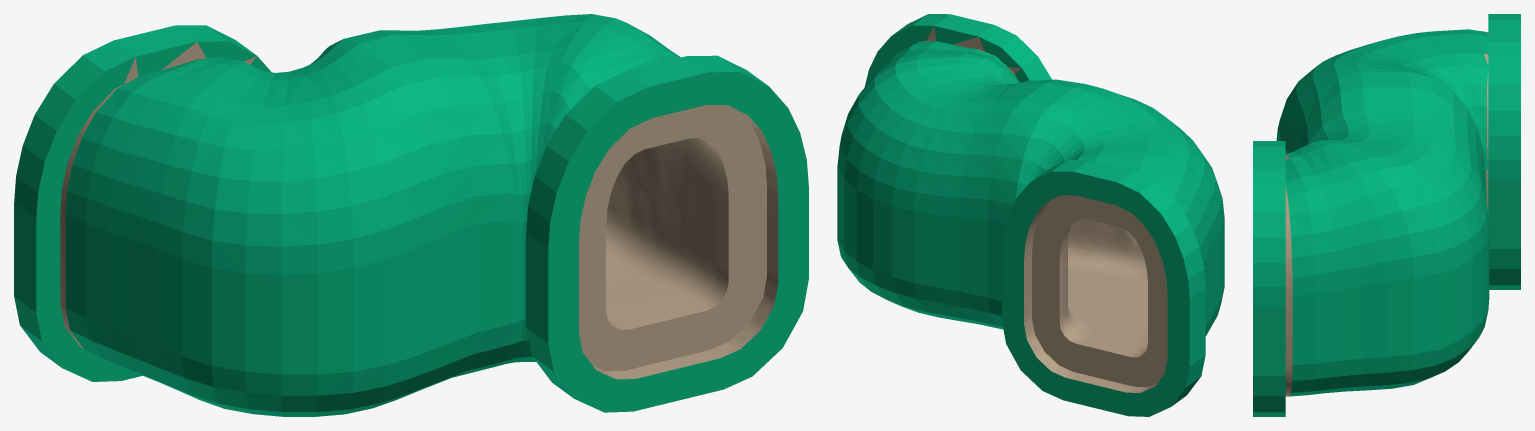
The model's file is TT_Dogleg_L.fbx.
3 renders of one model, left to right at view 1: azimuth 30°, elevation 25°; view 2: azimuth 150°, elevation 25°; view 3: azimuth 270°, elevation 25°, orthographic. The views are drawn at different scales.
Parts seen in each view (by area): view 1: TT_Dogleg_L_LOD0; view 2: TT_Dogleg_L_LOD0; view 3: TT_Dogleg_L_LOD0.
Part boxes in pixels (bbox=[...]): TT_Dogleg_L_LOD0: bbox=[14, 14, 808, 416]; TT_Dogleg_L_LOD0: bbox=[837, 14, 1224, 416]; TT_Dogleg_L_LOD0: bbox=[1253, 14, 1520, 416].
Bounding box in the file's own units: 800 × 414 × 410.
